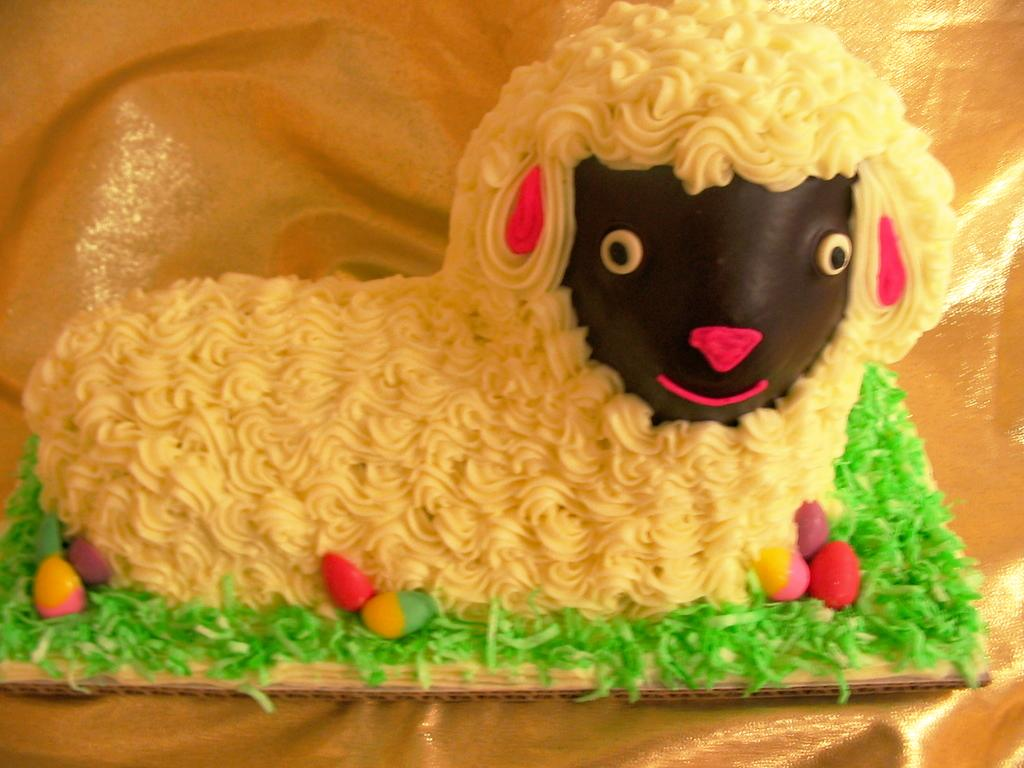Sheep: (25, 0, 954, 641)
